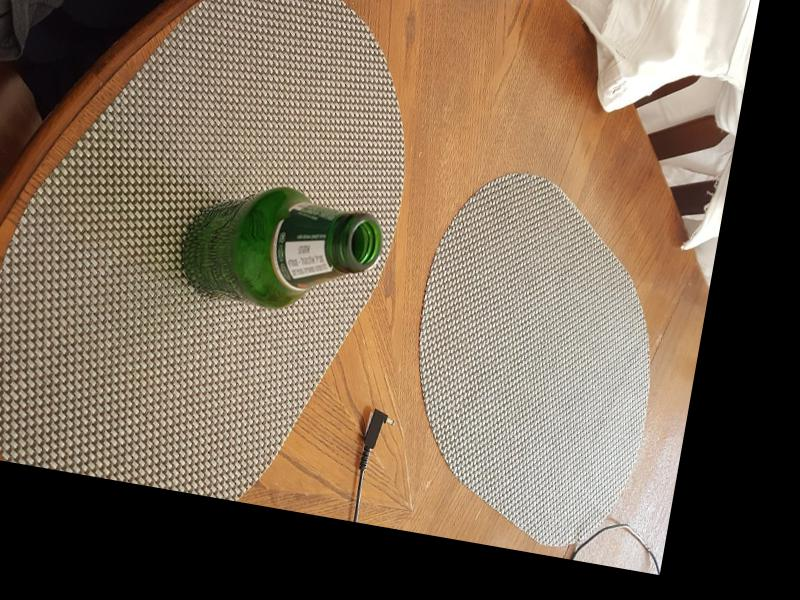Beer: (173, 170, 387, 323)
